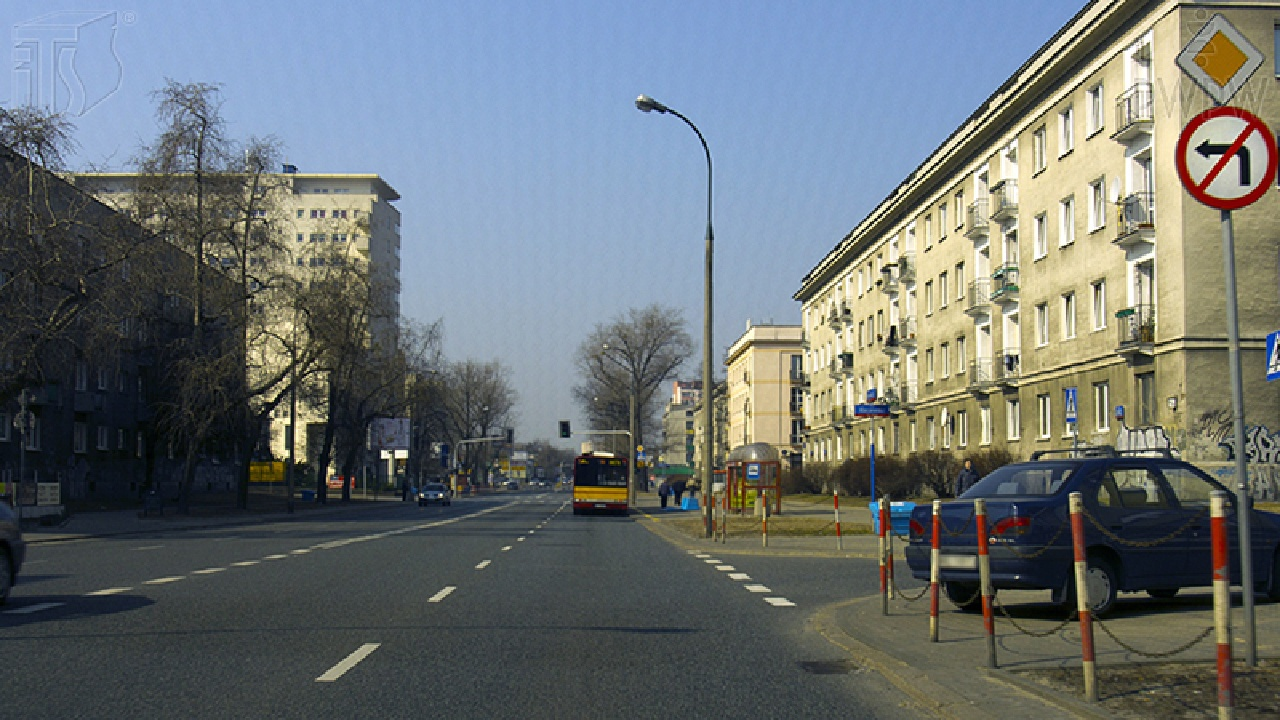B21: (1174, 107, 1278, 210)
D1: (1173, 12, 1267, 104)
